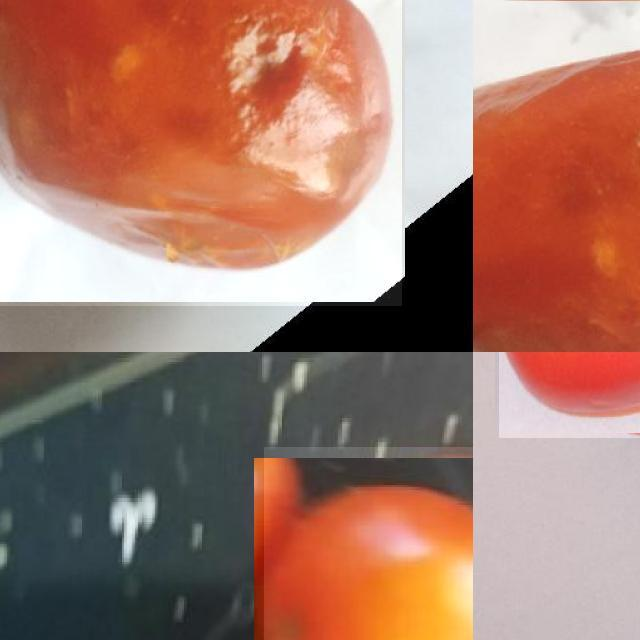Fresh Tomato: (264, 447, 473, 640), (499, 352, 640, 438)
Rotten Tomato: (0, 0, 402, 305), (473, 0, 640, 352)
